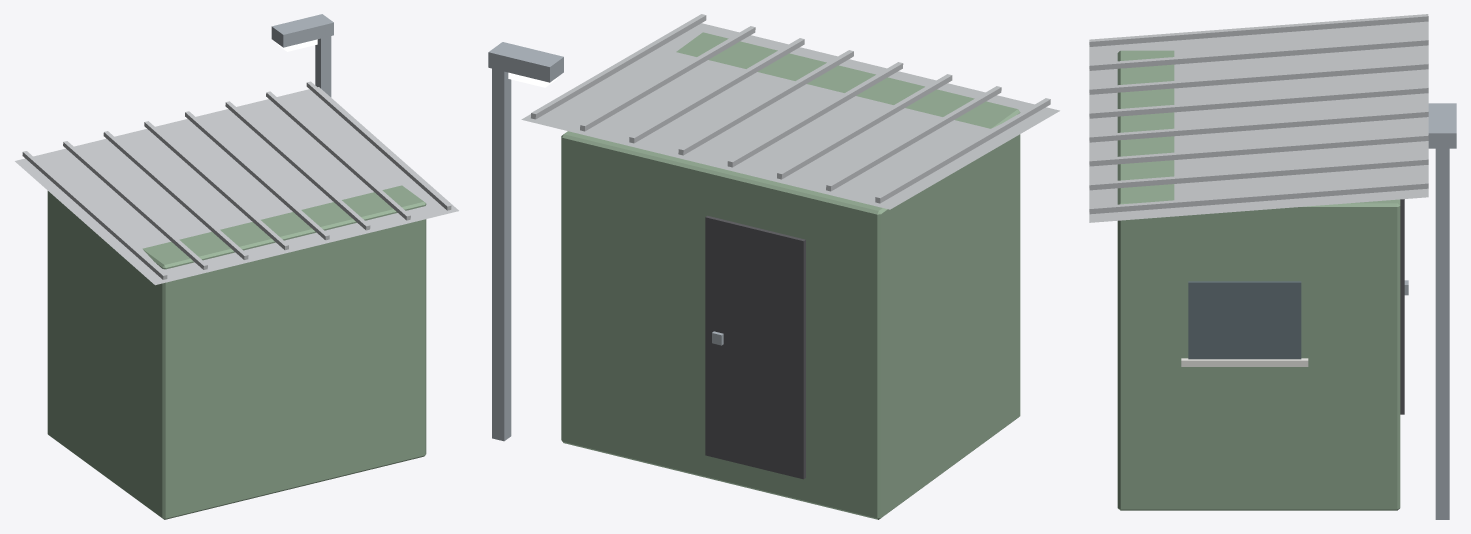
File: foot_dress.glb
3 views of the same model, side by side, from view 1: azimuth 30°, elevation 25°; view 2: azimuth 150°, elevation 25°; view 3: azimuth 270°, elevation 25° (orthographic). The views are drawn at different scales.
Parts seen in each view (by area): view 1: ff_hut_mesh; view 2: ff_hut_mesh; view 3: ff_hut_mesh.
Part boxes in pixels (box(x1,y1,x2,y2)): ff_hut_mesh: box(15, 14, 458, 519); ff_hut_mesh: box(488, 14, 1059, 519); ff_hut_mesh: box(1089, 14, 1456, 519).
Size of the model in its own units: 3.15 by 3.12 by 2.6.
